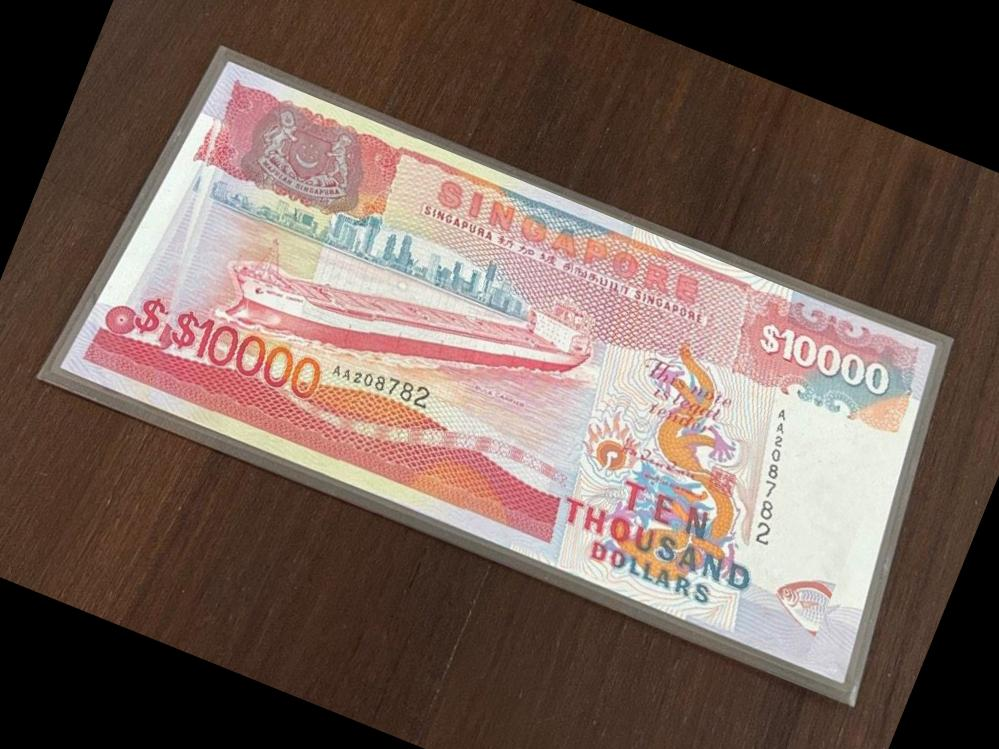10000SingaporeDollar: (99, 62, 932, 666)
